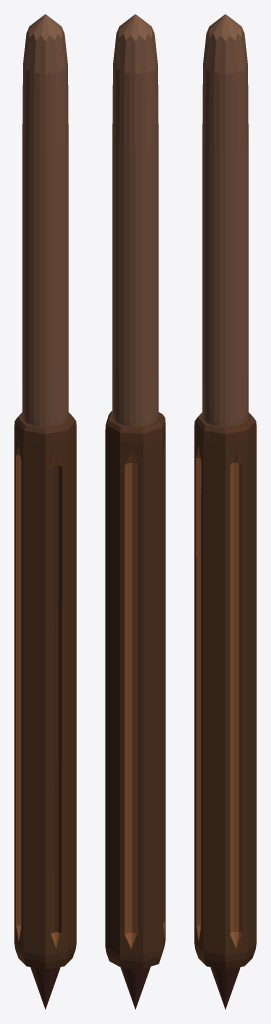
File: Wand 512.glb
3 views of the same model, side by side, from view 1: azimuth 90°, elevation 25°; view 2: azimuth 150°, elevation 25°; view 3: azimuth 270°, elevation 25° (orthographic).
Visible parts, largest first — view 1: GeneratedWand; view 2: GeneratedWand; view 3: GeneratedWand.
Boxes of the visible parts, box(x1,y1,x2,y2) form: GeneratedWand: box(14, 14, 76, 1009); GeneratedWand: box(105, 14, 165, 1009); GeneratedWand: box(194, 14, 256, 1009).
Bounding box in the file's own units: 0.0289 × 0.5071 × 0.0289.
